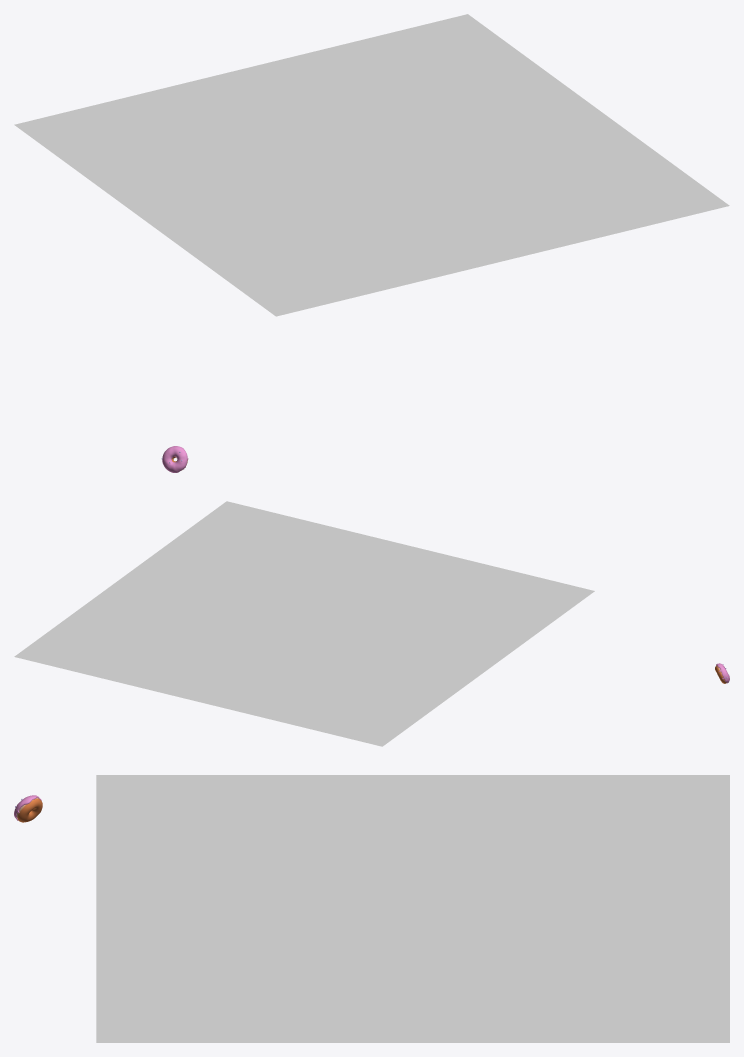
Rendered from donat 2.glb.
The picture shows the model from 3 angles, top to bottom: view 1: azimuth 30°, elevation 25°; view 2: azimuth 150°, elevation 25°; view 3: azimuth 270°, elevation 25°; orthographic projection. The views are drawn at different scales.
Visible parts, largest first — view 1: Plane; view 2: Plane; view 3: Plane.
Boxes of the visible parts, <box> form: Plane: <box>14,14,729,316</box>; Plane: <box>14,501,594,746</box>; Plane: <box>96,775,729,1042</box>.
Size of the model in its own units: 2.61 by 0.4306 by 2.26.
3 materials, 1 textured.
